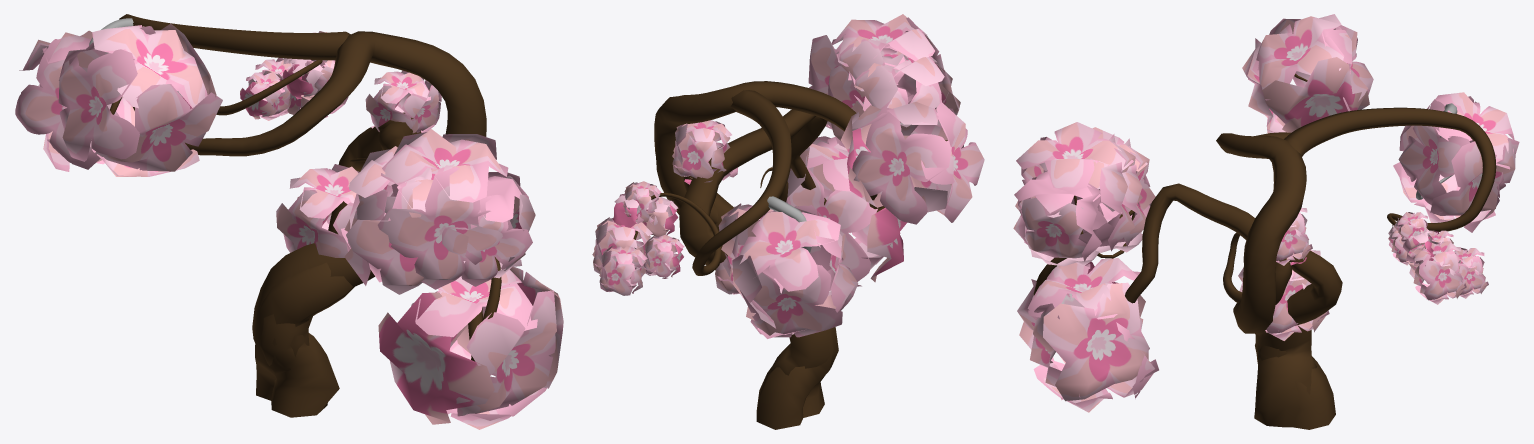
File: FinalSakuraUV.fbx
3 views of the same model, side by side, from view 1: azimuth 30°, elevation 25°; view 2: azimuth 150°, elevation 25°; view 3: azimuth 270°, elevation 25° (orthographic). The views are drawn at different scales.
Visible parts, largest first — view 1: pPlane56, nurbsToPoly1, polySurface117, polySurface90, polySurface5, polySurface3, nurbsToPoly4, pPlane58, polySurface6, polySurface92, polySurface11, pPlane57 (+13 smaller); view 2: nurbsToPoly1, polySurface117, pPlane56, polySurface4, polySurface10, nurbsToPoly4, polySurface7, polySurface5, pPlane57, polySurface92, polySurface89, polySurface109 (+21 smaller); view 3: pPlane56, nurbsToPoly1, polySurface117, nurbsToPoly4, polySurface2, polySurface92, polySurface6, polySurface12, polySurface8, polySurface93, pPlane45, polySurface10 (+15 smaller).
Boxes of the visible parts, x1,y1,x2,y2 form: pPlane56: (378,267,563,429); nurbsToPoly1: (110,31,486,417); polySurface117: (255,120,501,400); polySurface90: (377,166,512,289); polySurface5: (58,49,139,161); polySurface3: (95,84,222,171); nurbsToPoly4: (119,14,350,115); pPlane58: (276,164,359,257); polySurface6: (92,25,207,108); polySurface92: (381,129,508,202); polySurface11: (15,38,119,169); pPlane57: (365,70,441,133); nurbsToPoly1: (654,81,947,417); polySurface117: (679,109,884,429); pPlane56: (786,136,906,286); polySurface4: (852,107,951,224); polySurface10: (732,211,840,291); nurbsToPoly4: (633,90,791,275); polySurface7: (740,264,842,337); polySurface5: (921,102,984,222); pPlane57: (672,120,731,178); polySurface92: (831,14,934,66); polySurface89: (808,35,884,129); polySurface109: (828,63,897,147); pPlane56: (1017,258,1158,412); nurbsToPoly1: (1216,73,1316,427); polySurface117: (1033,183,1342,429); nurbsToPoly4: (1284,107,1496,231); polySurface2: (1261,57,1369,132); polySurface92: (1016,122,1133,191); polySurface6: (1256,14,1344,100); polySurface12: (1398,99,1472,213); polySurface8: (1430,138,1519,215); polySurface93: (1021,198,1088,258); pPlane45: (1409,241,1466,304); polySurface10: (1435,92,1514,169).
Bounding box in the file's own units: 35.29 × 34.39 × 46.65.
